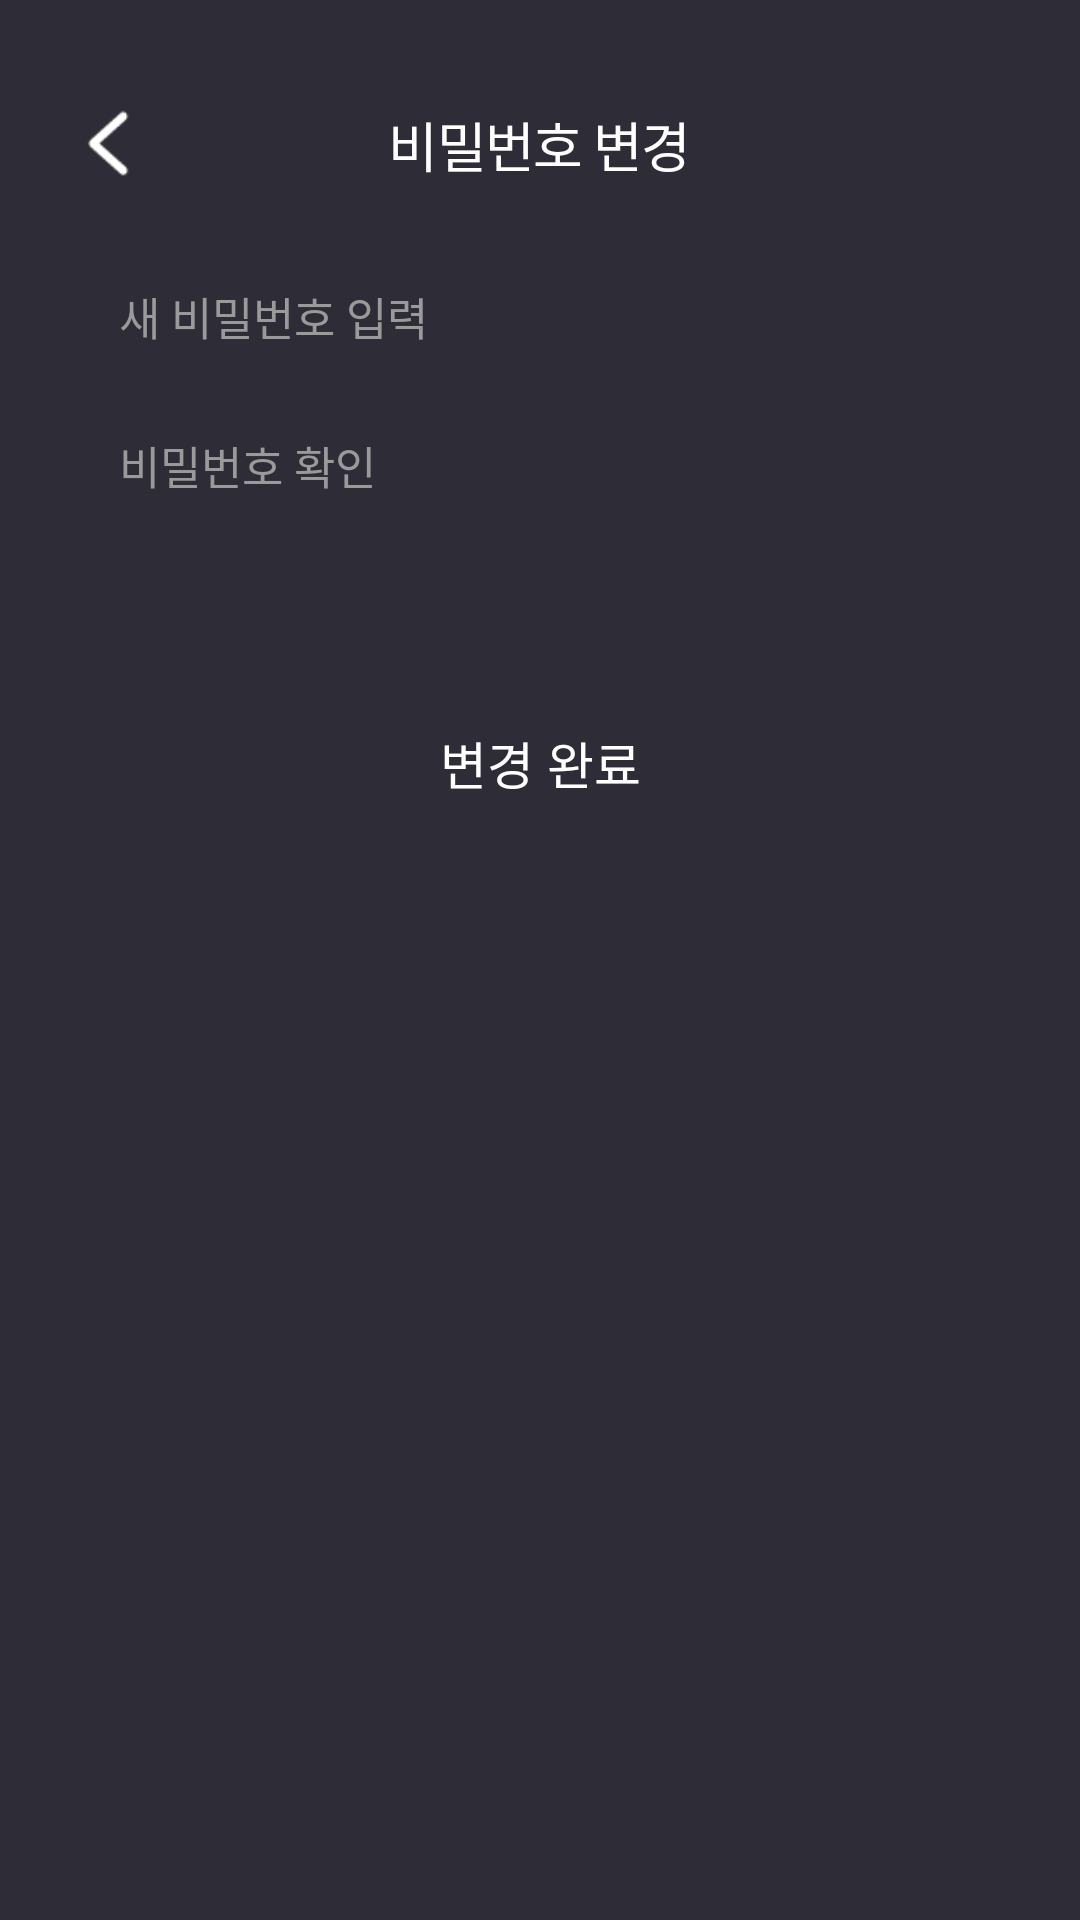

Named icons in this screenshot (1080px x 1920px) and their centers, (x,y):
arrow left resize: (108,143)
